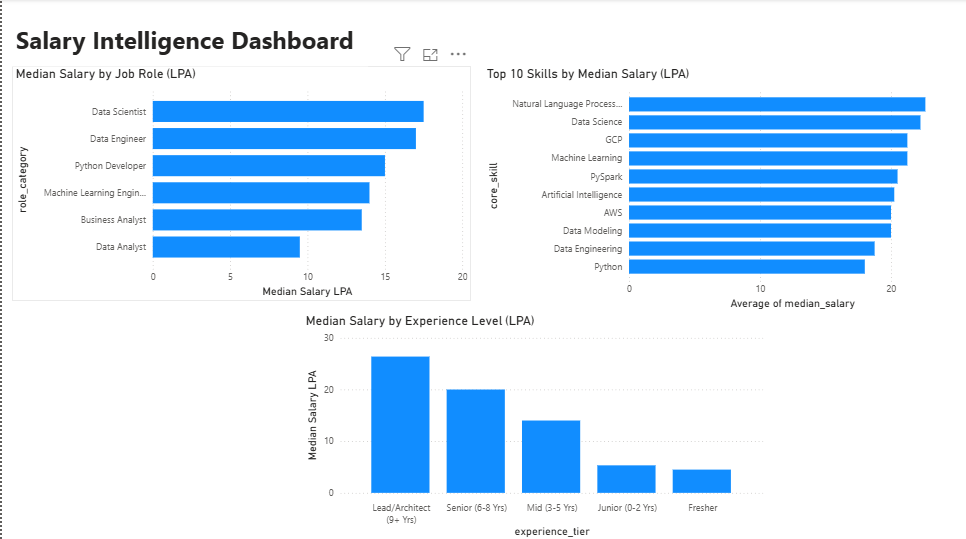

Layout of this report page (visuals, bound fields, positions):
{"tool":"powerbi","page":{"name":"Salary Intelligence","canvas":[1280,720],"ordinal":2},"visuals":[{"type":"clusteredBarChart","title":"Median Salary by Job Role (LPA)","fields":{"Category":["jobs_clean.role_category"],"Y":["jobs_clean.Median Salary LPA"]},"box":[13.2,89.3,610.2,311.7],"z":0},{"type":"clusteredBarChart","title":"Top 10 Skills by Median Salary (LPA)","fields":{"Category":["skill_salary_analysis.core_skill"],"Y":["Avg(skill_salary_analysis.median_salary)"]},"box":[639.5,89.3,641,327.8],"z":1000},{"type":"clusteredColumnChart","title":"Median Salary by Experience Level (LPA)","fields":{"Category":["jobs_clean.experience_tier"],"Y":["jobs_clean.Median Salary LPA"]},"box":[398,417.1,617.6,302.9],"z":2000},{"type":"textbox","box":[13.2,26.3,472.7,62.9],"z":2001}]}

Visuals, with their boxes in screenshot pixels (x1, y1, x2, y2), scaled from the page's 1280x720 canvas onto the 966x539 screenshot:
"Median Salary by Job Role (LPA)" clusteredBarChart: locate(10, 67, 470, 300)
"Top 10 Skills by Median Salary (LPA)" clusteredBarChart: locate(483, 67, 965, 312)
"Median Salary by Experience Level (LPA)" clusteredColumnChart: locate(300, 312, 766, 538)
textbox: locate(10, 20, 367, 67)
